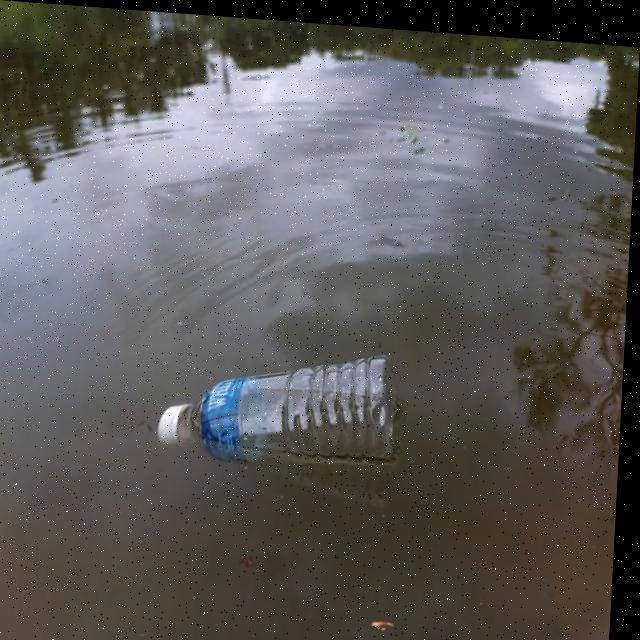waterbottle: (155, 333, 421, 481)
